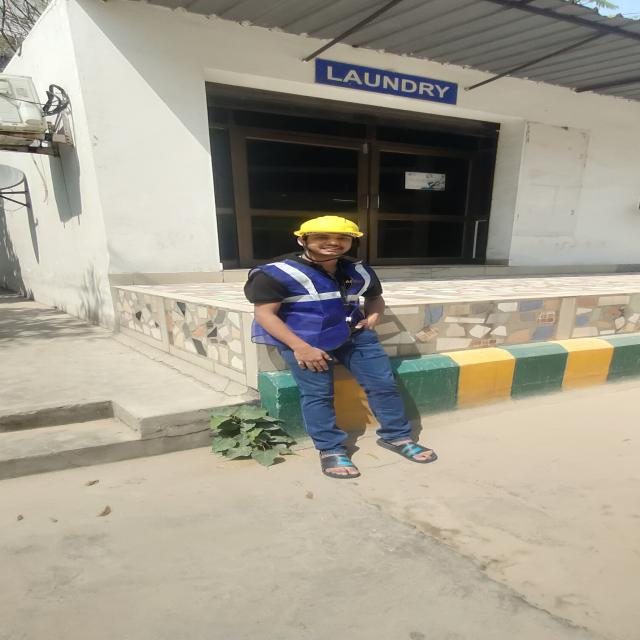safe: (248, 214, 390, 476)
